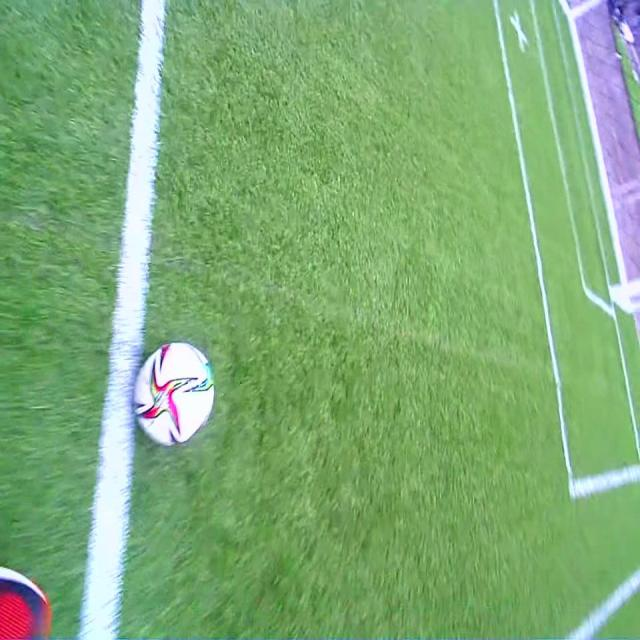ball: (135, 343, 213, 444)
